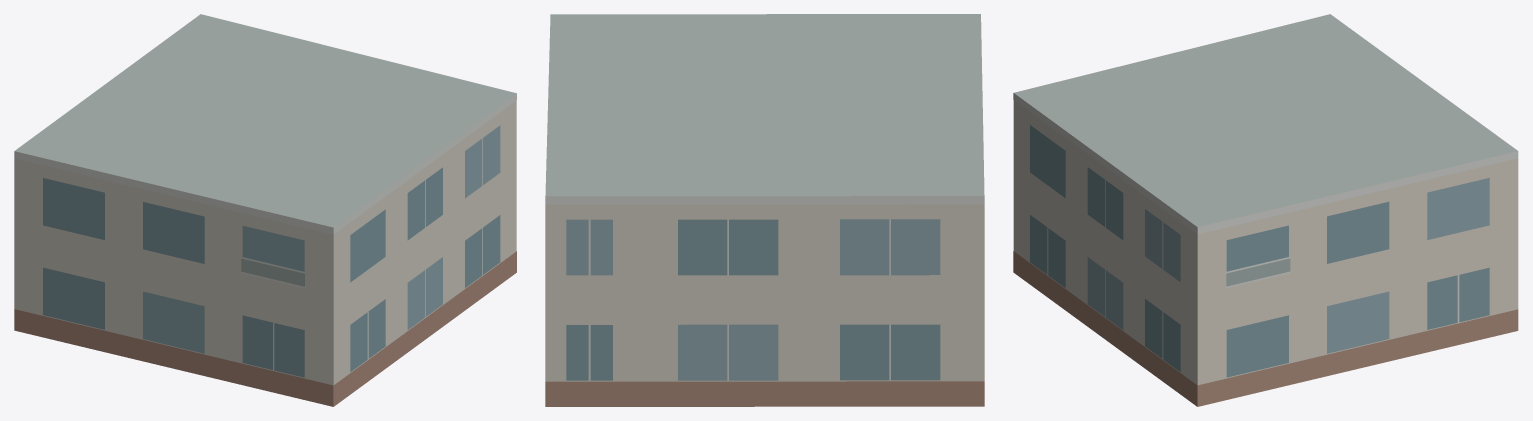
File: survey-upis-32488853.glb
3 views of the same model, side by side, from view 1: azimuth 30°, elevation 25°; view 2: azimuth 150°, elevation 25°; view 3: azimuth 270°, elevation 25° (orthographic). The views are drawn at different scales.
Parts seen in each view (by area): view 1: survey-upis-32488853.tmp; view 2: survey-upis-32488853.tmp; view 3: survey-upis-32488853.tmp.
Part boxes in pixels (x1=…): survey-upis-32488853.tmp: x1=14, y1=14, x2=516, y2=406; survey-upis-32488853.tmp: x1=545, y1=14, x2=984, y2=406; survey-upis-32488853.tmp: x1=1013, y1=14, x2=1518, y2=406.
Bounding box in the file's own units: 15.53 × 6.1 × 15.54.
